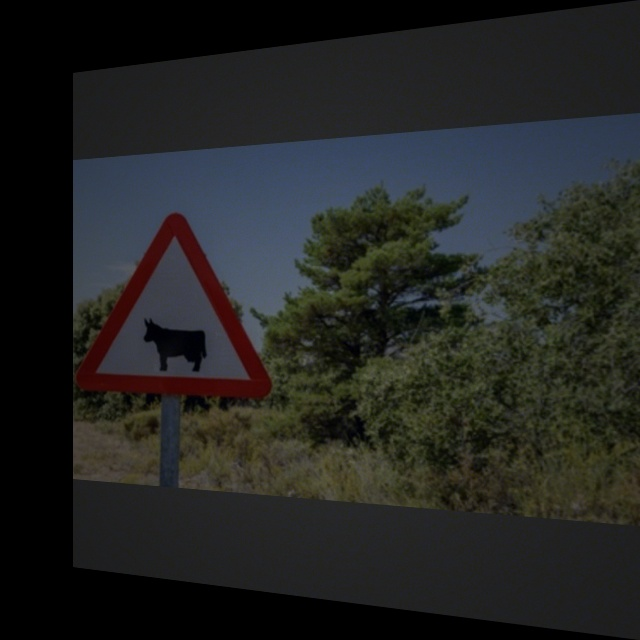Cattle: (98, 217, 261, 399)
